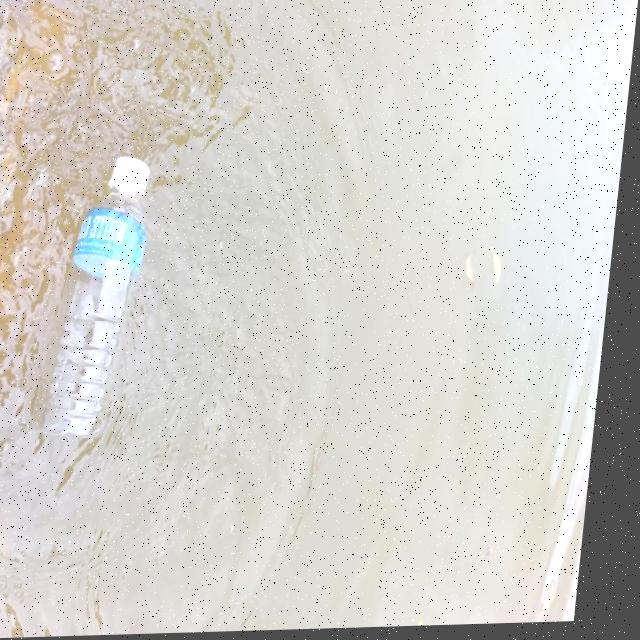waterbottle: (18, 152, 174, 451)
